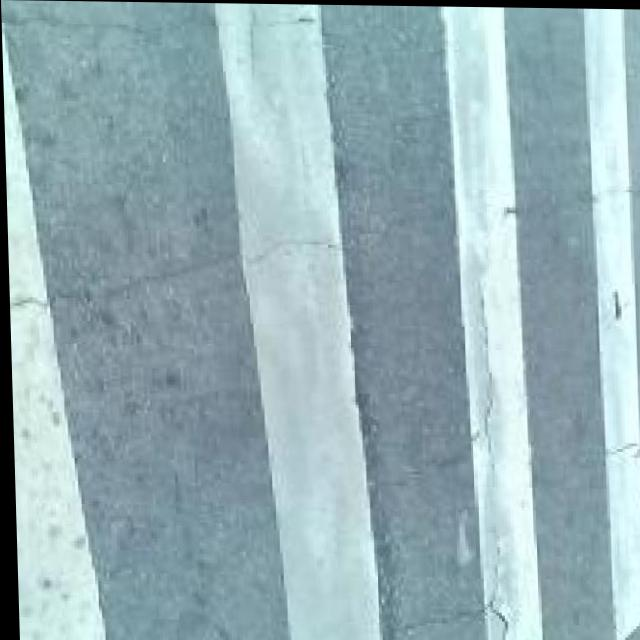zebra: (10, 4, 640, 583)
